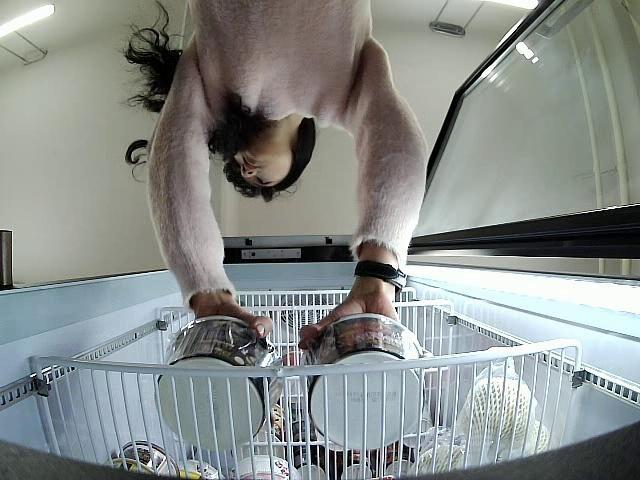07_buldak_L: (152, 318, 283, 446), (302, 314, 421, 450)
